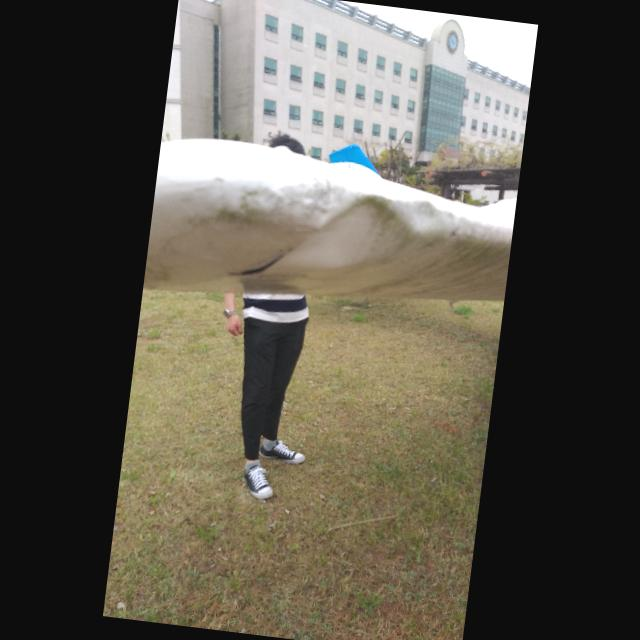dent: (264, 182, 396, 283), (404, 194, 444, 234)
